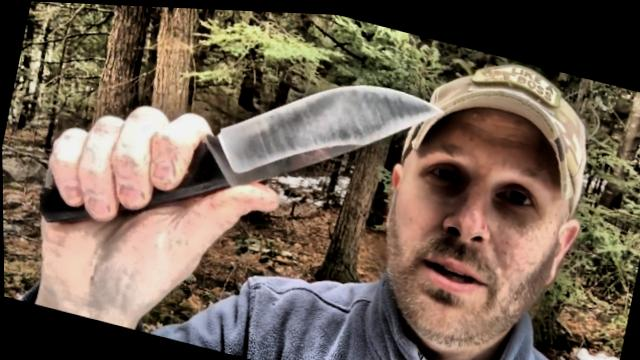knife: (114, 20, 454, 292)
